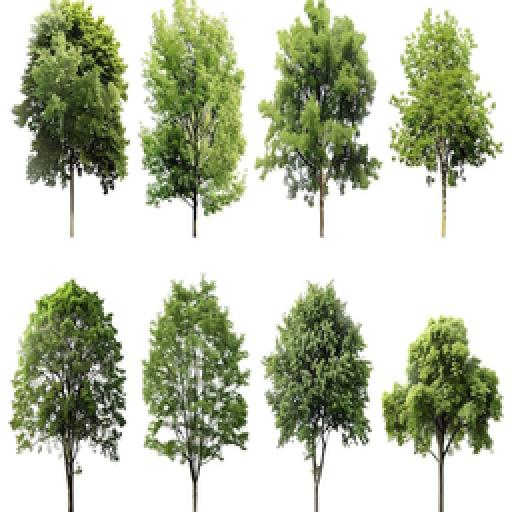trees: (252, 0, 382, 238), (10, 0, 130, 238), (8, 278, 130, 510), (388, 4, 502, 238), (260, 278, 374, 510), (138, 276, 250, 510), (138, 0, 248, 238), (380, 314, 502, 510)
